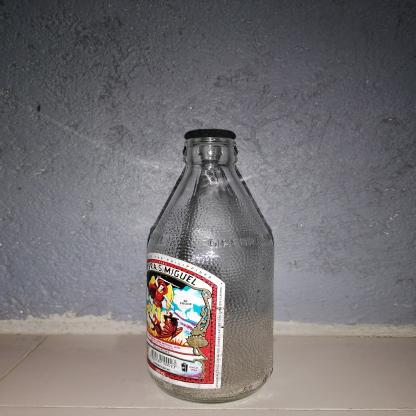Can: (142, 134, 277, 407)
